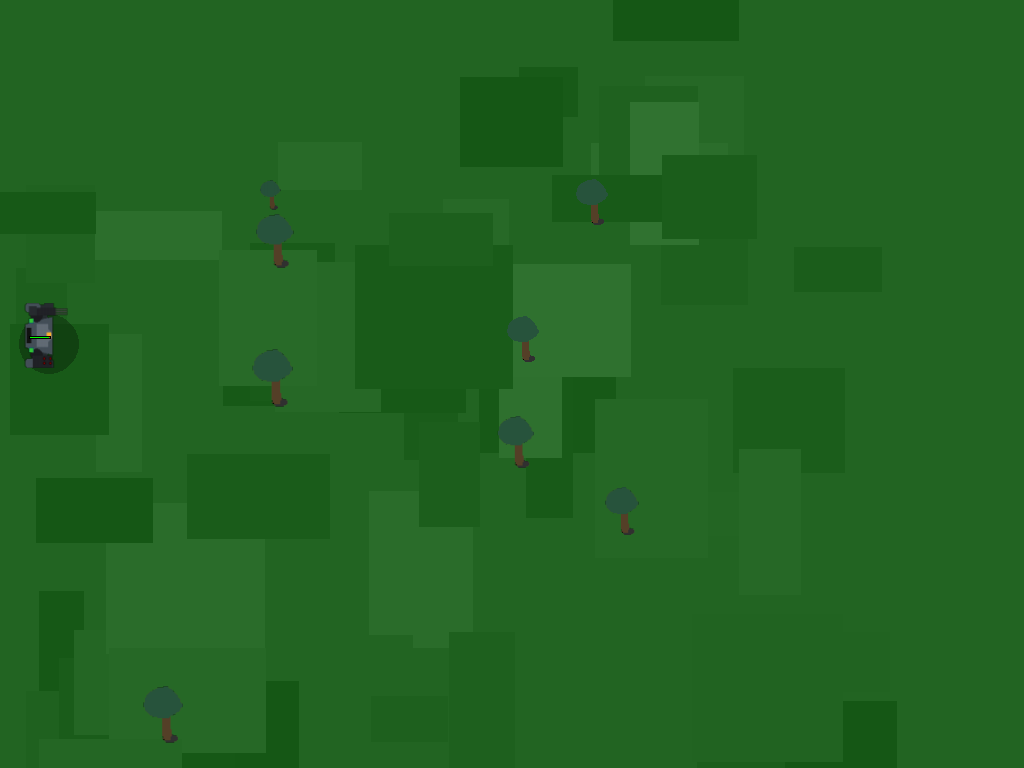HeavyMech: (15, 311, 63, 359)
